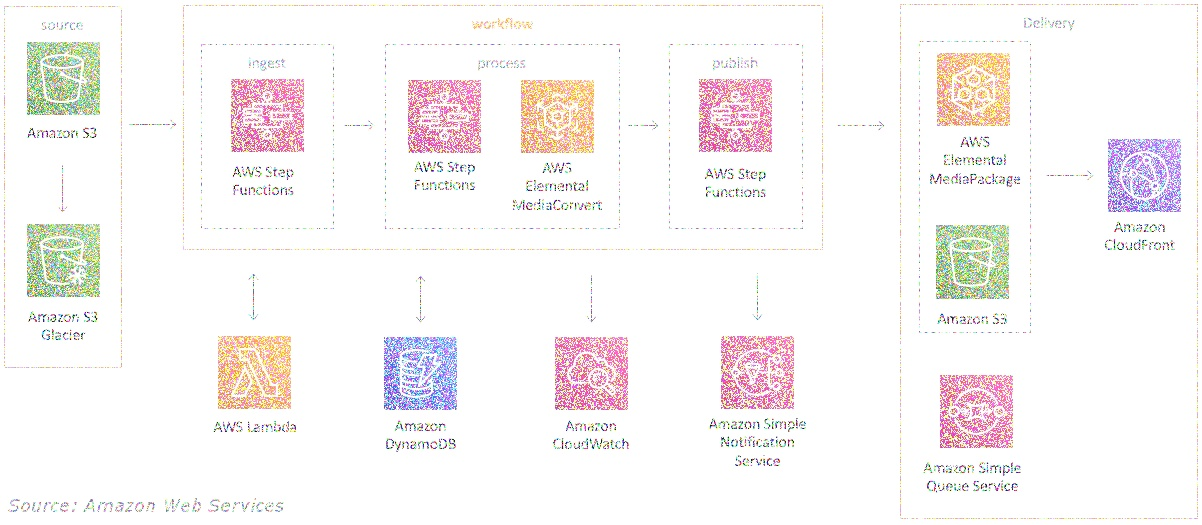Cloud Watch: (551, 331, 631, 414)
Cloudfront: (1102, 132, 1188, 215)
Dynamo DB: (385, 332, 457, 413)
Elemental MediaConvert: (519, 77, 597, 156)
Elemental MediaPackage: (933, 48, 1016, 132)
Lambda: (216, 331, 294, 412)
S3: (22, 218, 104, 301), (22, 37, 104, 120), (935, 220, 1013, 304)
SNS: (716, 330, 799, 414)
SQS: (936, 370, 1018, 454)
Step Function: (402, 72, 486, 156), (229, 74, 309, 155), (695, 74, 774, 156)
